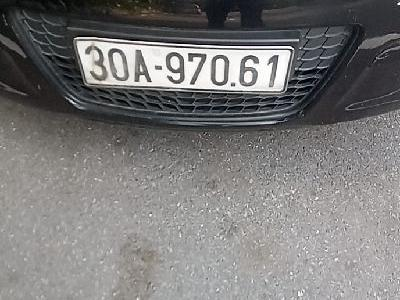car: (73, 37, 294, 95)
